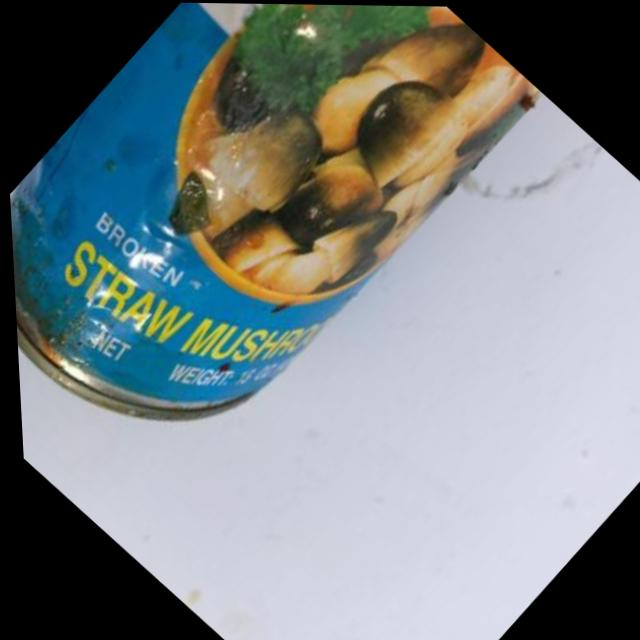metal: (0, 0, 551, 639)
